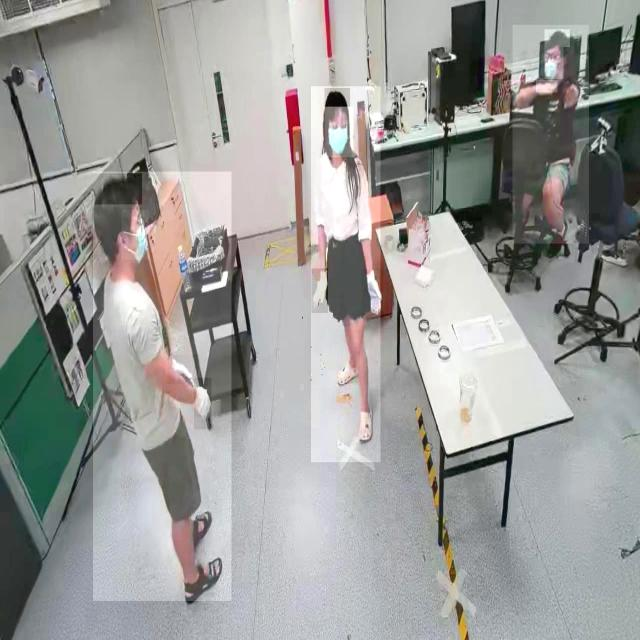face_mask: (324, 107, 354, 157), (121, 210, 149, 260), (544, 47, 564, 80)
hand_glove: (361, 268, 383, 320), (194, 378, 212, 430), (168, 355, 198, 384), (311, 268, 328, 314)
hand_noglove: (536, 80, 558, 93)
head_nohelmet: (92, 173, 142, 206), (324, 88, 350, 108), (544, 29, 570, 48)
person: (92, 172, 232, 602), (310, 86, 380, 463), (512, 25, 589, 244)
